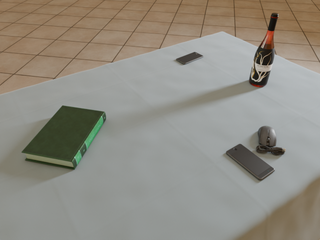book: (22, 106, 106, 170)
bottle: (249, 13, 278, 87)
mouse: (256, 126, 285, 155)
phone: (226, 144, 275, 180), (176, 52, 203, 64)
